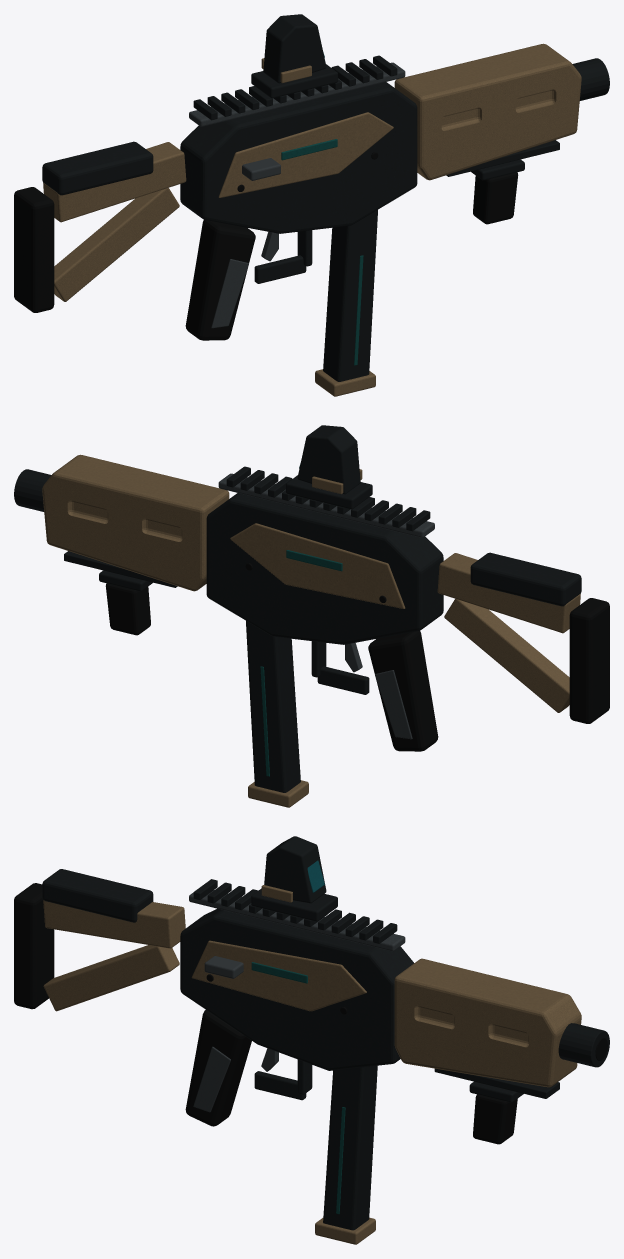
The model's file is wisp02.standard.glb.
3 renders of one model, top to bottom at view 1: azimuth 30°, elevation 25°; view 2: azimuth 150°, elevation 25°; view 3: azimuth 330°, elevation 25°, orthographic.
Visible parts, largest first — view 1: wisp02.standard__root, wisp02.standard__handguard.standard, wisp02.standard__stock.standard, wisp02.standard__magazine, wisp02.standard__grip, wisp02.standard__sight, wisp02.standard__grip_addon, wisp02.standard__muzzle, wisp02.standard__charging_handle; view 2: wisp02.standard__root, wisp02.standard__handguard.standard, wisp02.standard__stock.standard, wisp02.standard__magazine, wisp02.standard__grip, wisp02.standard__sight, wisp02.standard__grip_addon, wisp02.standard__muzzle; view 3: wisp02.standard__root, wisp02.standard__handguard.standard, wisp02.standard__stock.standard, wisp02.standard__magazine, wisp02.standard__grip, wisp02.standard__sight, wisp02.standard__grip_addon, wisp02.standard__muzzle, wisp02.standard__charging_handle.
Part boxes in pixels (left/top/right/bottom): wisp02.standard__root: left=180, top=55, right=417, bottom=283; wisp02.standard__handguard.standard: left=394, top=43, right=581, bottom=180; wisp02.standard__stock.standard: left=14, top=141, right=186, bottom=312; wisp02.standard__magazine: left=315, top=210, right=377, bottom=396; wisp02.standard__grip: left=185, top=219, right=255, bottom=340; wisp02.standard__sight: left=251, top=14, right=337, bottom=98; wisp02.standard__grip_addon: left=471, top=159, right=524, bottom=224; wisp02.standard__muzzle: left=572, top=58, right=609, bottom=100; wisp02.standard__charging_handle: left=242, top=158, right=280, bottom=180; wisp02.standard__root: left=206, top=466, right=443, bottom=694; wisp02.standard__handguard.standard: left=42, top=454, right=229, bottom=591; wisp02.standard__stock.standard: left=437, top=552, right=609, bottom=723; wisp02.standard__magazine: left=246, top=621, right=308, bottom=807; wisp02.standard__grip: left=368, top=630, right=438, bottom=751; wisp02.standard__sight: left=286, top=425, right=372, bottom=509; wisp02.standard__grip_addon: left=99, top=570, right=152, bottom=635; wisp02.standard__muzzle: left=14, top=469, right=51, bottom=511; wisp02.standard__root: left=180, top=879, right=413, bottom=1100; wisp02.standard__handguard.standard: left=394, top=958, right=581, bottom=1098; wisp02.standard__stock.standard: left=14, top=869, right=185, bottom=1011; wisp02.standard__magazine: left=315, top=1065, right=377, bottom=1244; wisp02.standard__grip: left=185, top=1010, right=251, bottom=1126; wisp02.standard__sight: left=251, top=836, right=337, bottom=921; wisp02.standard__grip_addon: left=469, top=1081, right=523, bottom=1144; wisp02.standard__muzzle: left=558, top=1023, right=609, bottom=1067; wisp02.standard__charging_handle: left=204, top=956, right=243, bottom=978.
Size of the model in its own units: 0.6715 by 0.4188 by 0.08.
6 materials, 6 textured.
